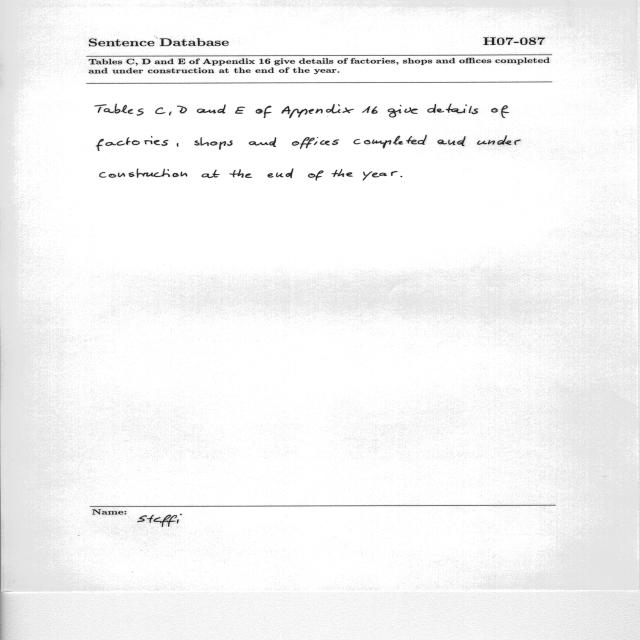word: (97, 136, 169, 151), (281, 104, 354, 118), (353, 135, 427, 148), (100, 168, 187, 178), (95, 104, 144, 116), (292, 137, 339, 149), (427, 104, 478, 114), (195, 137, 233, 150), (477, 135, 521, 145), (388, 105, 418, 117), (363, 171, 398, 181), (438, 136, 466, 146), (249, 137, 276, 147), (197, 105, 226, 114), (268, 169, 294, 179), (491, 105, 509, 118), (229, 169, 252, 178), (256, 106, 271, 118), (332, 169, 353, 177), (308, 171, 323, 181), (202, 170, 220, 178), (363, 106, 378, 114), (177, 106, 187, 114), (155, 107, 166, 114), (235, 107, 245, 114), (169, 112, 172, 116), (177, 143, 178, 147), (401, 176, 403, 177)
